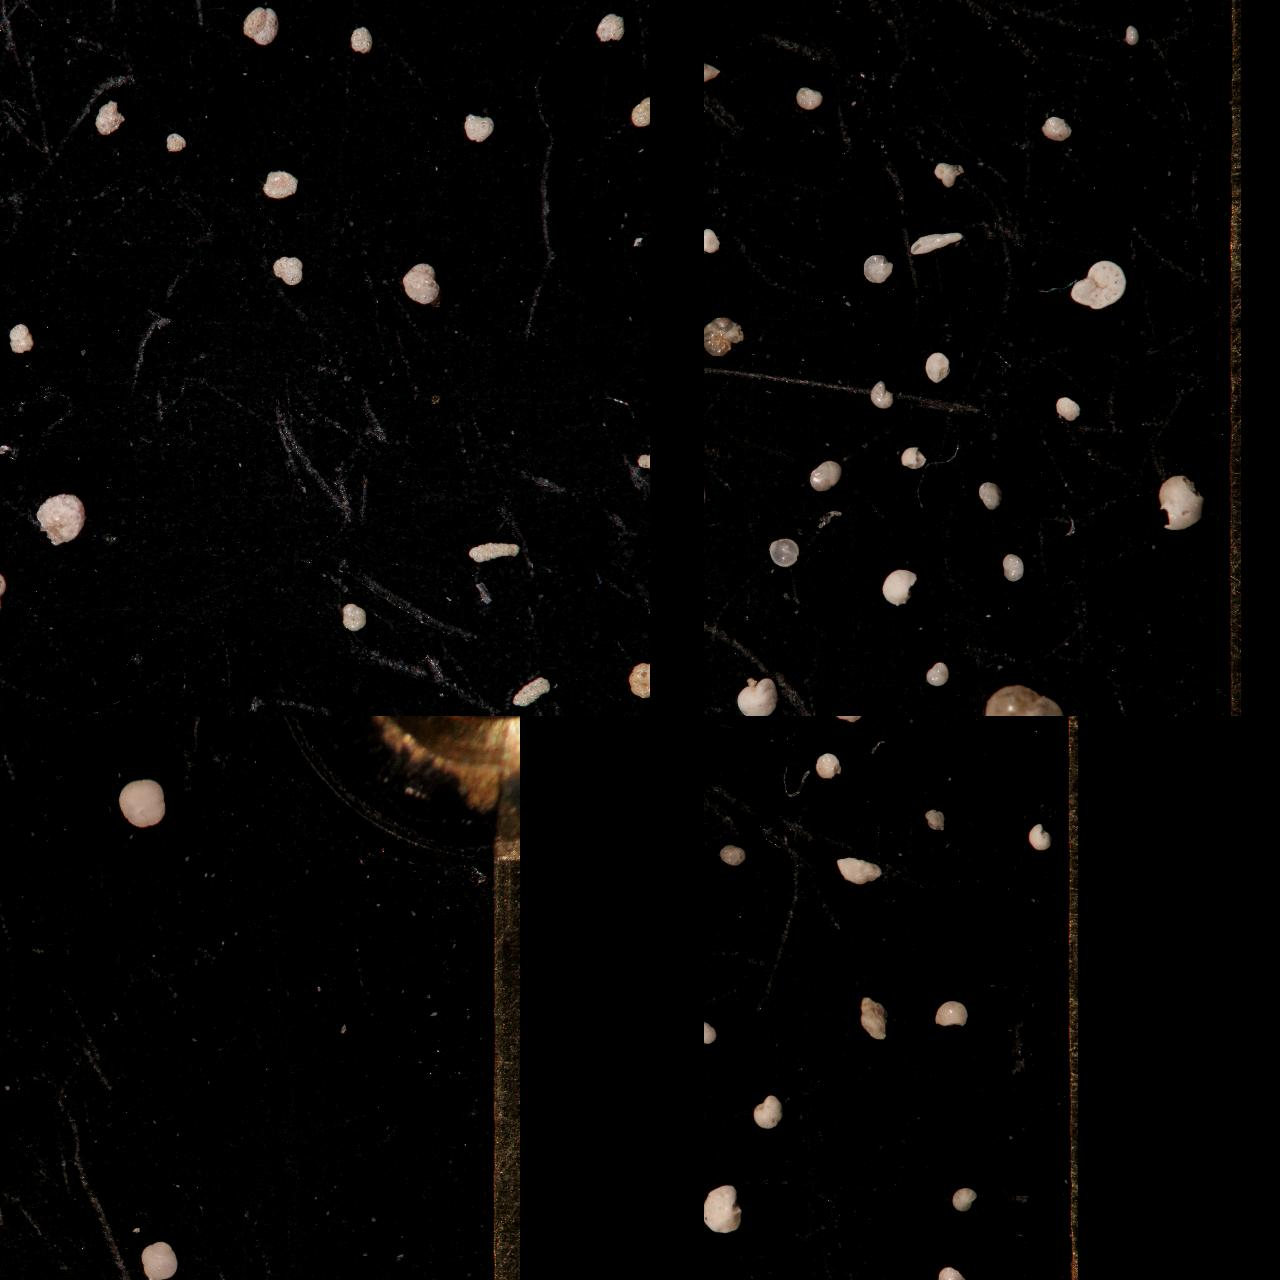agglutinated: (34, 493, 84, 547), (0, 23, 39, 93), (0, 559, 30, 628), (241, 7, 279, 48), (403, 264, 438, 305), (513, 675, 551, 708), (470, 542, 520, 564), (263, 170, 298, 199), (96, 101, 124, 137), (422, 0, 459, 26), (464, 113, 493, 145), (6, 320, 34, 354), (272, 256, 301, 287), (595, 13, 624, 46), (131, 0, 166, 23), (628, 662, 649, 700), (309, 0, 338, 28), (341, 604, 365, 633), (350, 26, 372, 56), (631, 97, 649, 129), (166, 132, 186, 154), (537, 0, 564, 15), (0, 516, 13, 547), (95, 0, 121, 15), (98, 0, 125, 13), (229, 0, 252, 14), (0, 699, 15, 716), (636, 452, 649, 470)
calcareous: (1071, 259, 1126, 312), (1157, 475, 1203, 533), (983, 686, 1068, 716), (704, 1183, 742, 1235), (736, 675, 779, 716), (704, 316, 745, 359), (704, 392, 731, 452), (835, 855, 881, 885), (910, 231, 965, 257), (881, 568, 917, 608), (859, 995, 888, 1041), (704, 931, 728, 987), (810, 459, 843, 492), (753, 1095, 784, 1129), (862, 254, 894, 286), (704, 716, 740, 745), (933, 1000, 969, 1028), (768, 538, 799, 568), (933, 159, 965, 190), (1041, 114, 1073, 144), (772, 716, 821, 736), (704, 594, 727, 636), (925, 350, 952, 384), (775, 0, 813, 23), (813, 753, 843, 779), (978, 481, 1003, 511), (704, 474, 721, 520), (981, 0, 1022, 19), (886, 716, 922, 737), (951, 1187, 978, 1216), (720, 843, 749, 869), (869, 381, 893, 411), (1027, 823, 1051, 853), (704, 139, 723, 179), (1055, 395, 1082, 422), (924, 660, 949, 688), (704, 5, 720, 50), (900, 444, 927, 470), (795, 87, 823, 111), (704, 57, 727, 86), (1002, 553, 1023, 583), (924, 806, 946, 833), (828, 716, 863, 733), (704, 340, 721, 373), (704, 1097, 720, 1131), (704, 223, 722, 252), (704, 839, 719, 874), (1122, 23, 1141, 49), (769, 716, 799, 731), (937, 1264, 964, 1280), (704, 1233, 719, 1264), (704, 1180, 719, 1211), (704, 229, 720, 256), (937, 716, 964, 731), (704, 644, 717, 675), (939, 0, 964, 16), (704, 716, 724, 736), (704, 270, 719, 298), (704, 602, 717, 633), (704, 0, 721, 23), (704, 888, 717, 918), (704, 716, 723, 736), (704, 0, 722, 21), (704, 1139, 719, 1165), (704, 716, 733, 729), (704, 1219, 717, 1246), (704, 1019, 717, 1046), (704, 1017, 719, 1042), (704, 557, 716, 586), (704, 956, 716, 985), (704, 949, 716, 978), (704, 860, 716, 885), (704, 716, 723, 731), (704, 829, 714, 858), (704, 1048, 715, 1074), (704, 1024, 715, 1048), (704, 840, 715, 863), (704, 736, 715, 758), (704, 477, 714, 502), (704, 716, 716, 734), (704, 716, 719, 730), (704, 716, 717, 731), (704, 1129, 713, 1152), (704, 1073, 713, 1095), (704, 1267, 716, 1280), (704, 716, 717, 728), (704, 716, 716, 729), (704, 716, 715, 728)
planktic: (117, 777, 166, 829), (139, 1240, 179, 1280), (0, 1148, 23, 1194), (0, 855, 22, 900)
